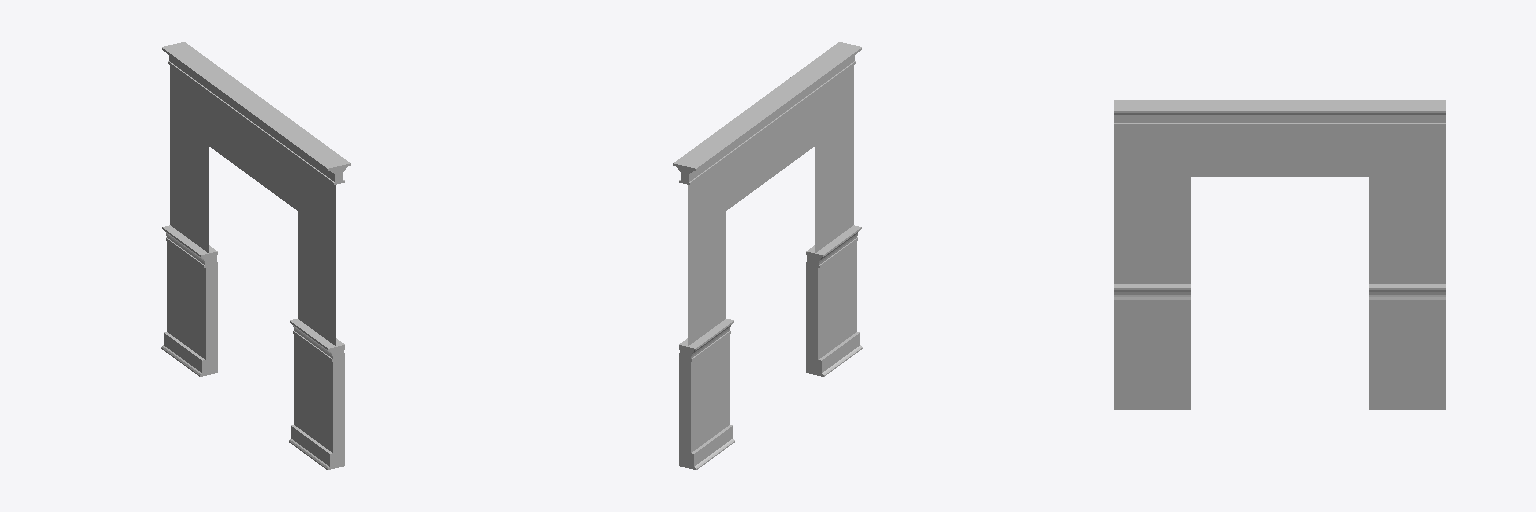
Rendered from SN_WallDoor_001.obj.
3 views of the same model, side by side, from view 1: azimuth 30°, elevation 25°; view 2: azimuth 150°, elevation 25°; view 3: azimuth 270°, elevation 25° (orthographic).
Visible parts, largest first — view 1: polySurface4; view 2: polySurface4; view 3: polySurface4.
Boxes of the visible parts, <box> form: polySurface4: <box>161,42,350,469</box>; polySurface4: <box>673,42,862,469</box>; polySurface4: <box>1114,100,1445,409</box>.
Size of the model in its own units: 24.5 by 305 by 305.